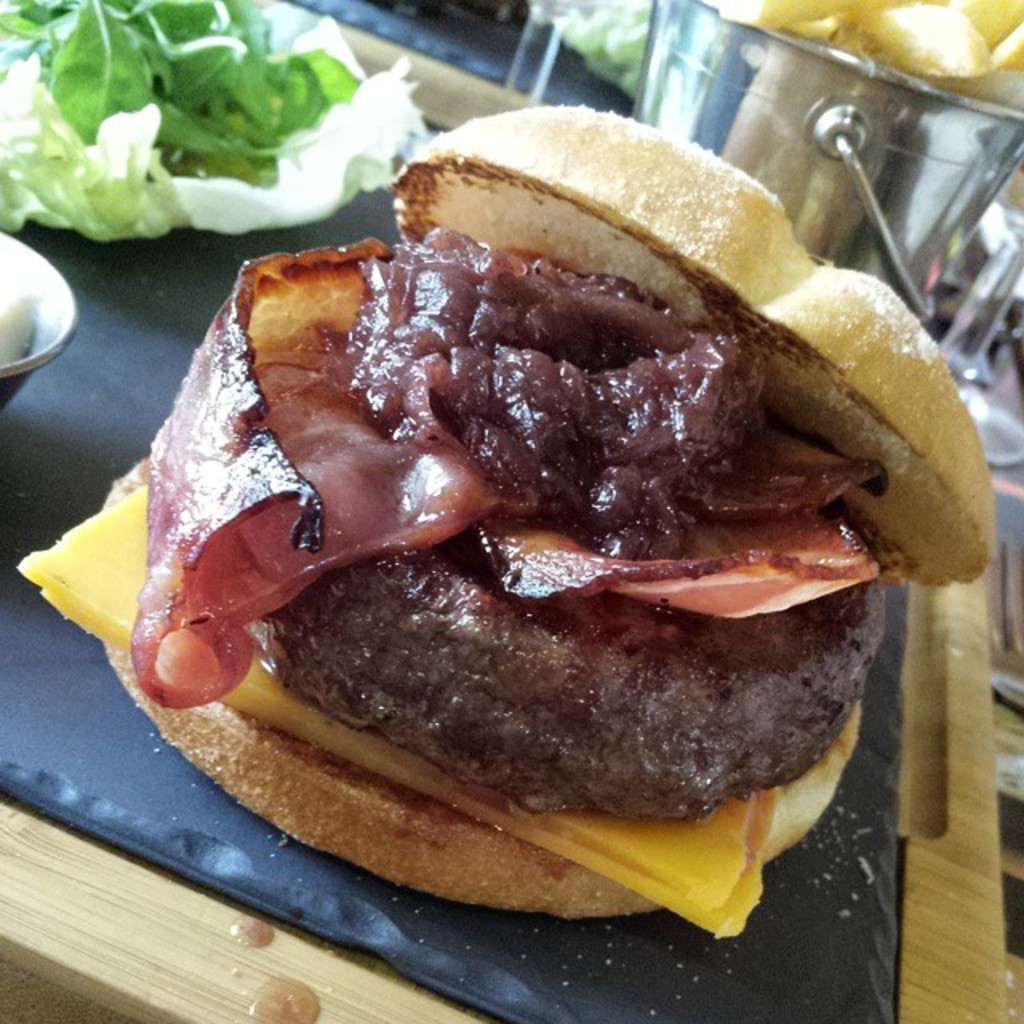Hamburger: (14, 99, 996, 939)
